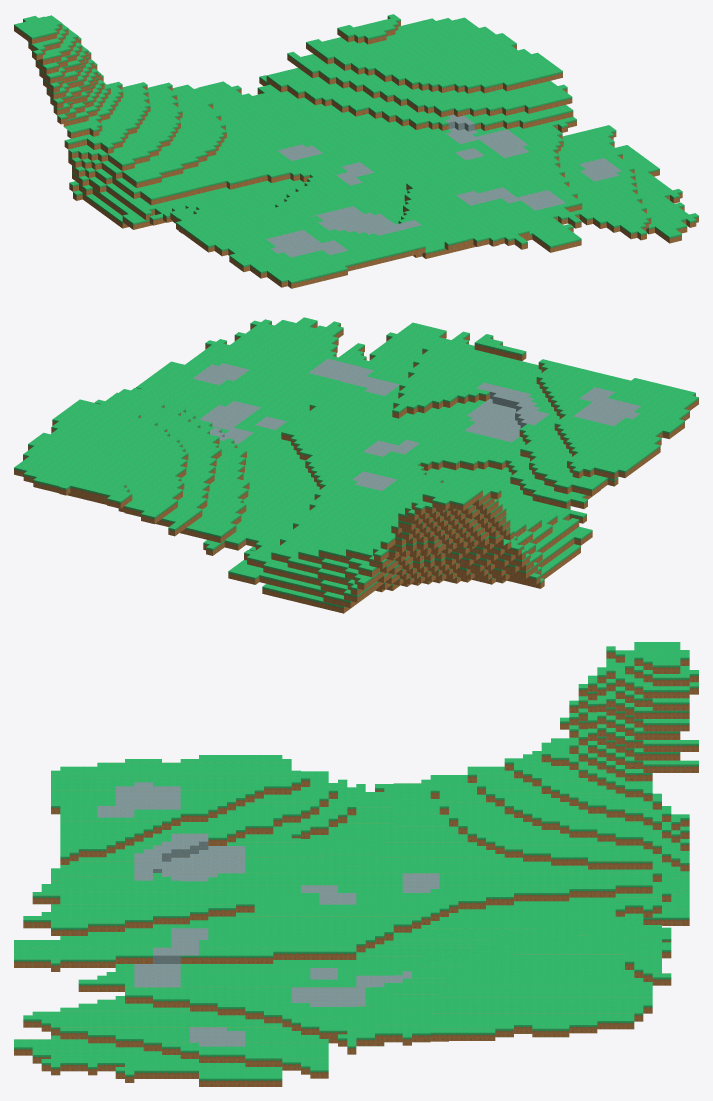
Rendered from terrain.glb.
The picture shows the model from 3 angles, top to bottom: view 1: azimuth 30°, elevation 25°; view 2: azimuth 150°, elevation 25°; view 3: azimuth 270°, elevation 25°; orthographic projection. The views are drawn at different scales.
Parts seen in each view (by area): view 1: Terrain-col; view 2: Terrain-col; view 3: Terrain-col.
Part boxes in pixels (x1,y1,x2,y2): Terrain-col: [14, 14, 698, 288]; Terrain-col: [14, 317, 698, 613]; Terrain-col: [14, 642, 698, 1086].
Size of the model in its own units: 78.34 by 20.11 by 78.34.
Materials: 1 (1 with a texture image).
